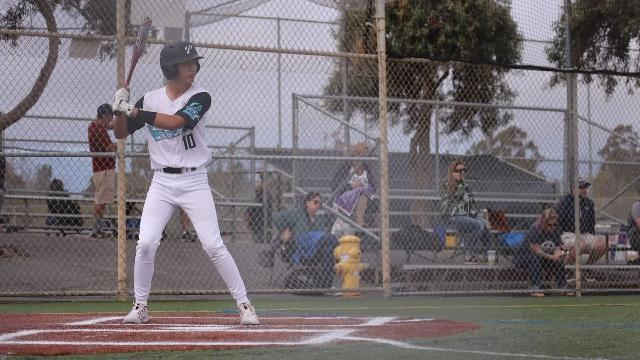baseball bat: (125, 18, 154, 88)
